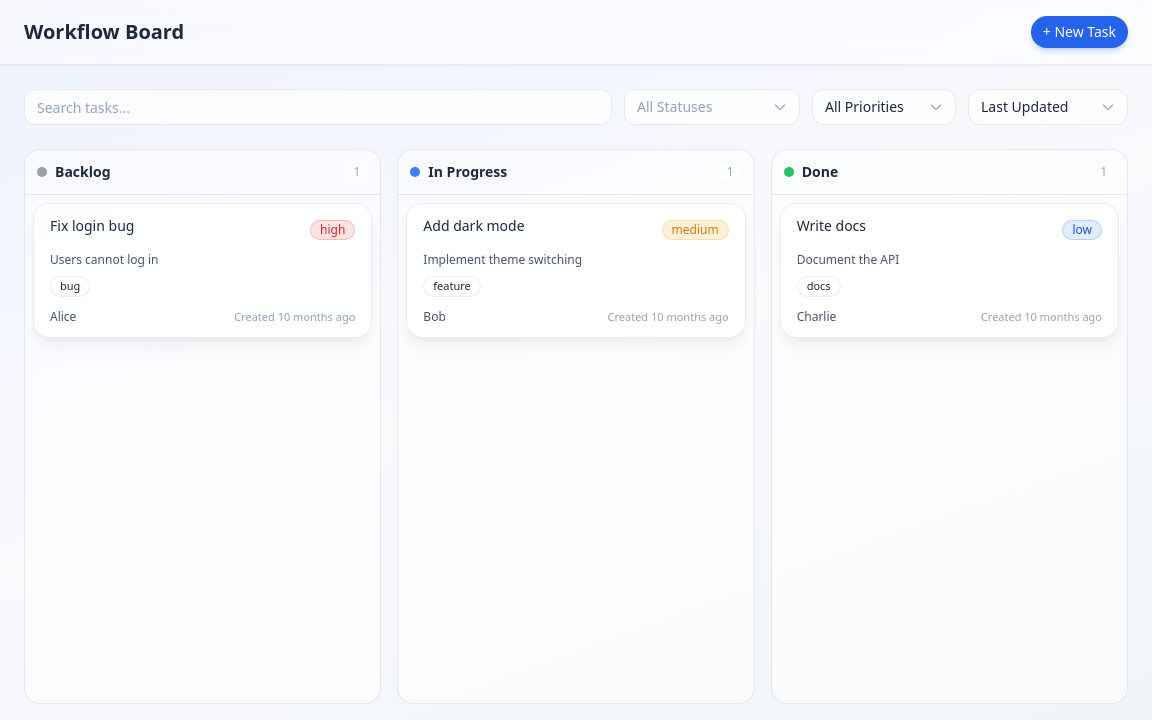
Test: Filter behavior › shows all tasks when search is cleared
This screenshot has width=1152, height=720.
In the field with placeholder "Search tasks...": coordinates (318, 107) [24,89,612,125], type "login"
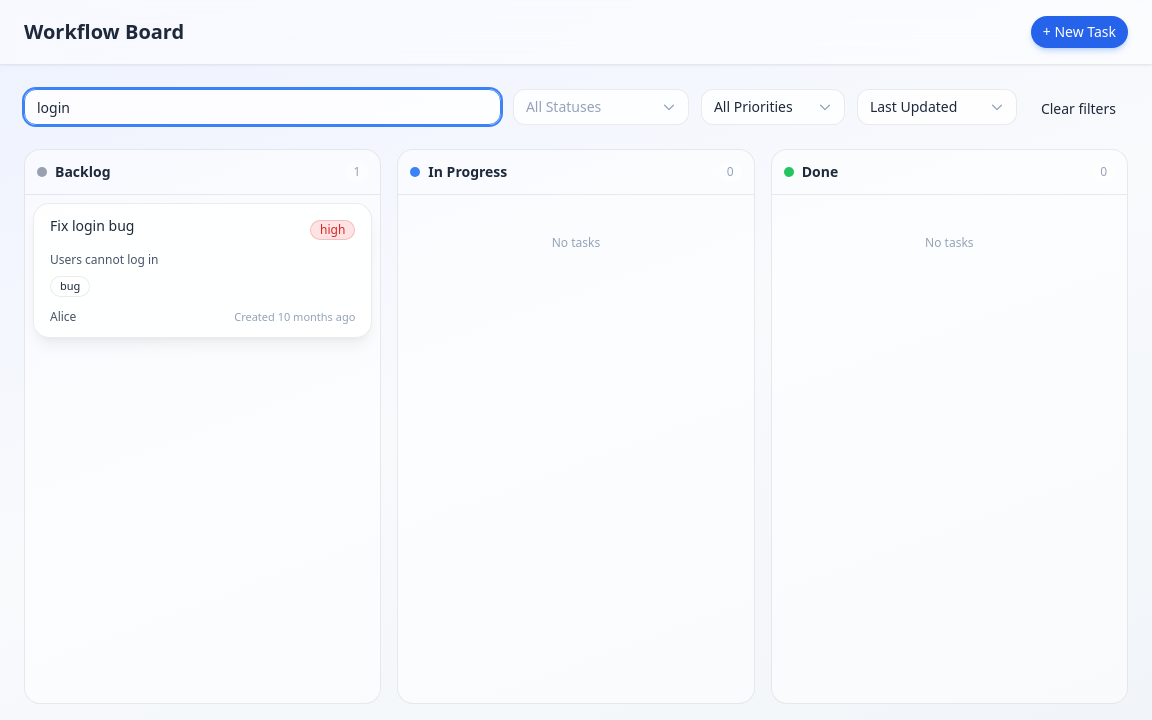
Clear the field with placeholder "Search tasks...": coordinates (262, 107) [24,89,501,125]
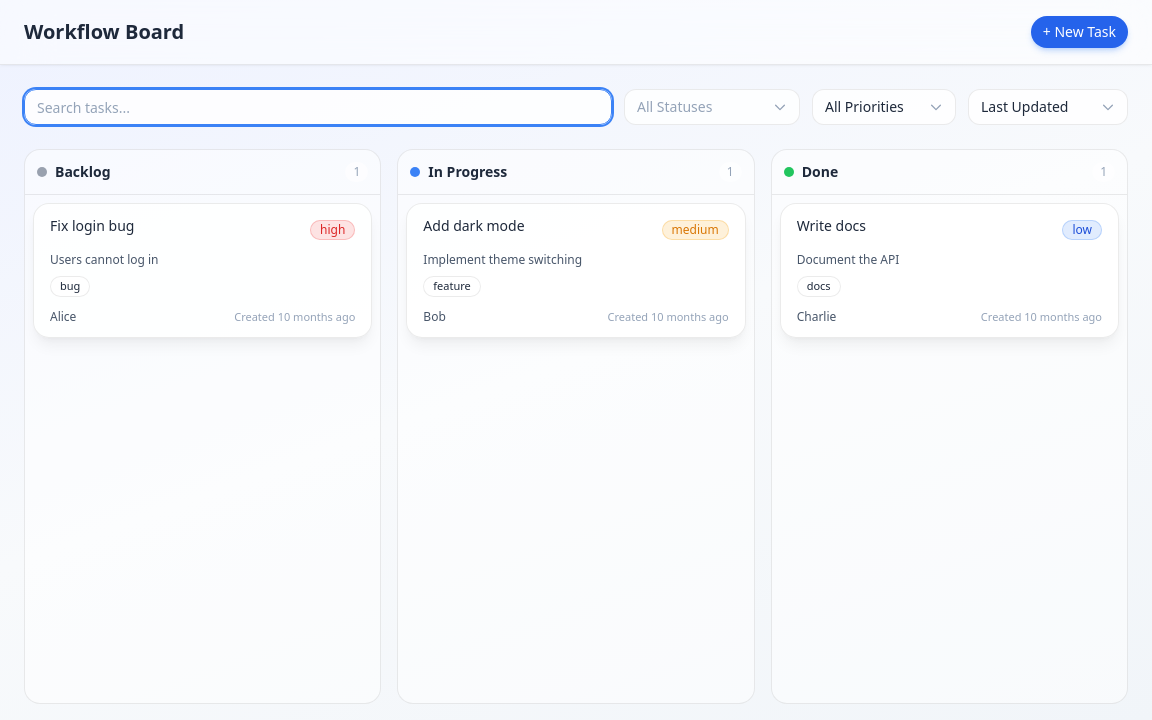
Check: the heading "Fix login bug" is shown, box [50,216,134,236]
Check: the heading "Add dark mode" is shown, box [423,216,524,236]
Check: the heading "Write docs" is shown, box [797,216,866,236]
